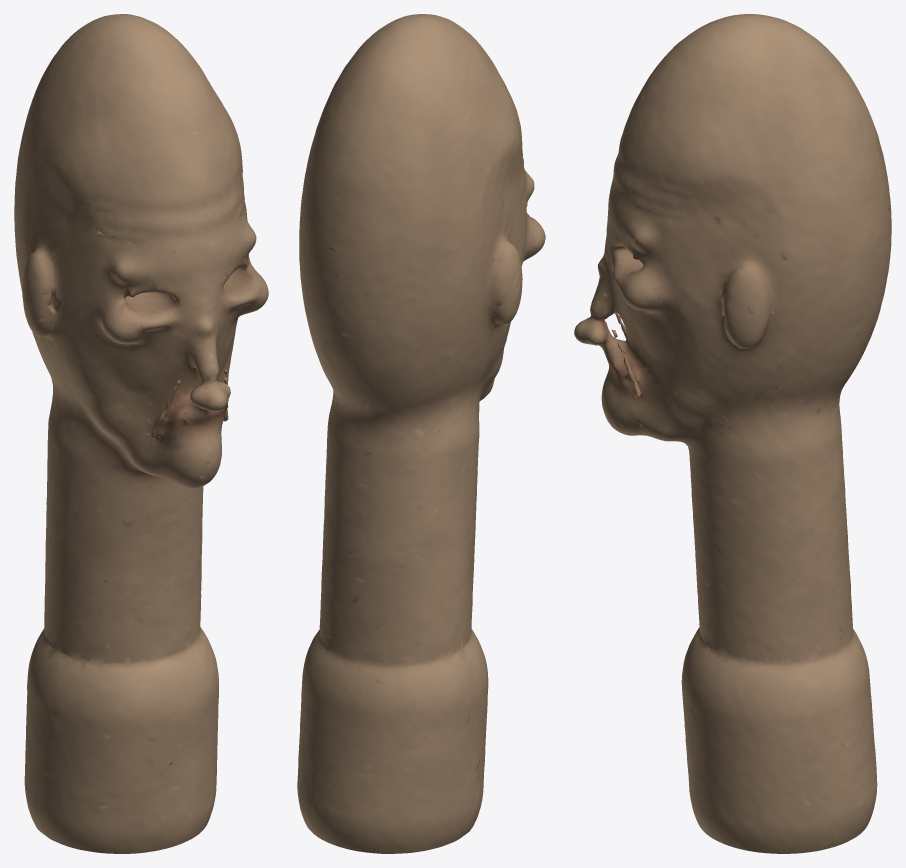
Rendered from haldun_skin.glb.
3 renders of one model, left to right at view 1: azimuth 30°, elevation 25°; view 2: azimuth 150°, elevation 25°; view 3: azimuth 270°, elevation 25°, orthographic. The views are drawn at different scales.
Visible parts, largest first — view 1: geometry_0; view 2: geometry_0; view 3: geometry_0.
Boxes of the visible parts, x1,y1,x2,y2 form: geometry_0: [14, 14, 268, 853]; geometry_0: [297, 14, 545, 853]; geometry_0: [574, 14, 891, 853].
Bounding box in the file's own units: 0.1306 × 0.4732 × 0.1713.
